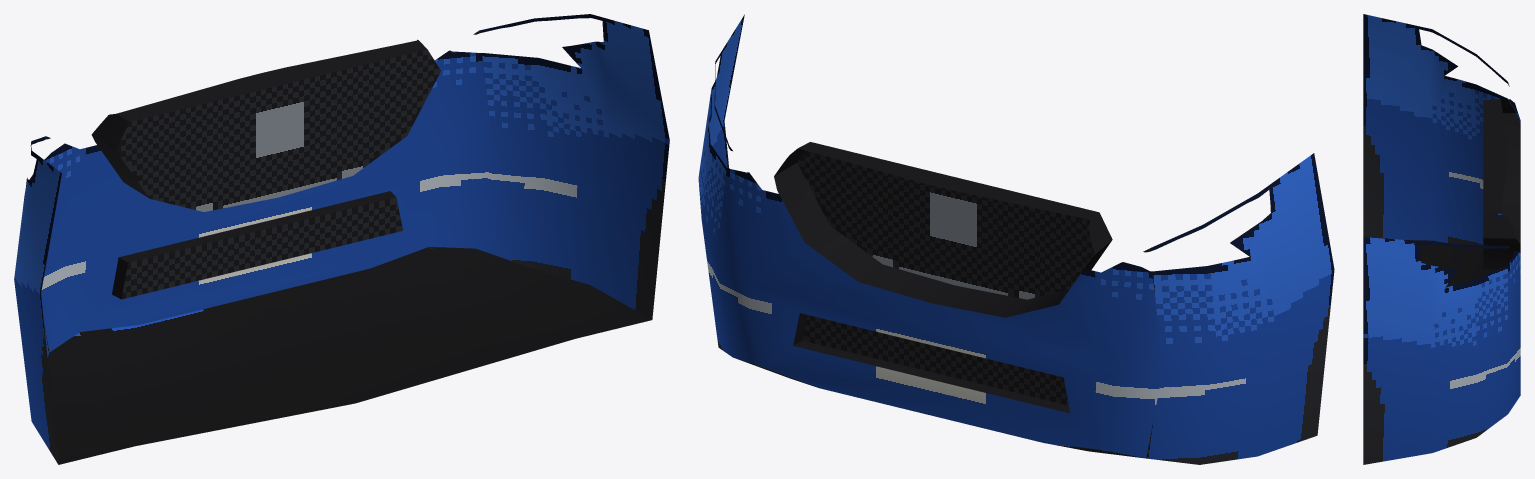
File: bumper_F_stock.glb
3 renders of one model, left to right at view 1: azimuth 30°, elevation 25°; view 2: azimuth 150°, elevation 25°; view 3: azimuth 270°, elevation 25°, orthographic. The views are drawn at different scales.
Visible parts, largest first — view 1: bumper_F_stock; view 2: bumper_F_stock; view 3: bumper_F_stock.
Part boxes in pixels (x1,y1,x2,y2): bumper_F_stock: (14, 14, 669, 464); bumper_F_stock: (698, 14, 1334, 464); bumper_F_stock: (1363, 14, 1520, 464).
Size of the model in its own units: 1.8 by 0.825 by 0.5.
1 material, 1 textured.
